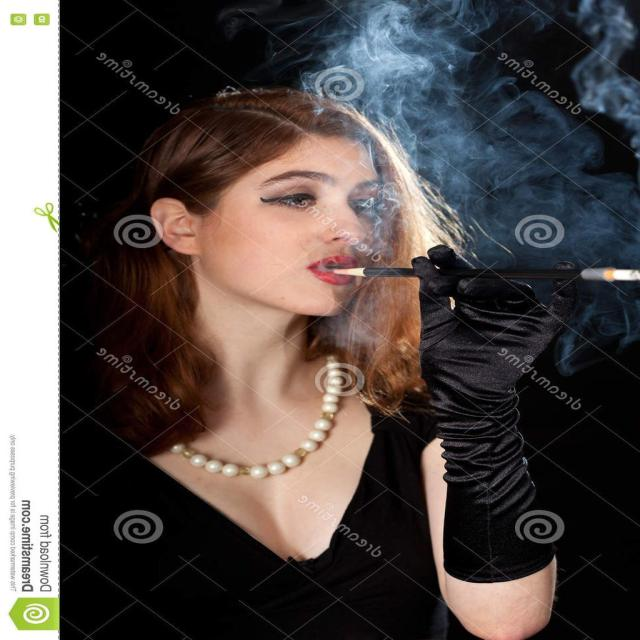smoking: (140, 0, 640, 382)
